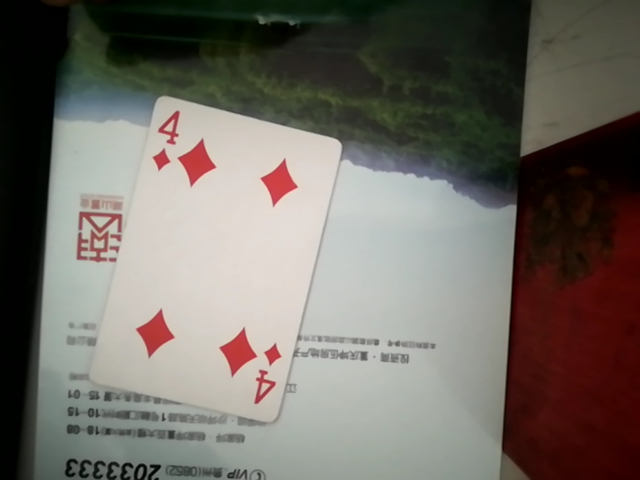fk 4: (81, 85, 338, 432)
